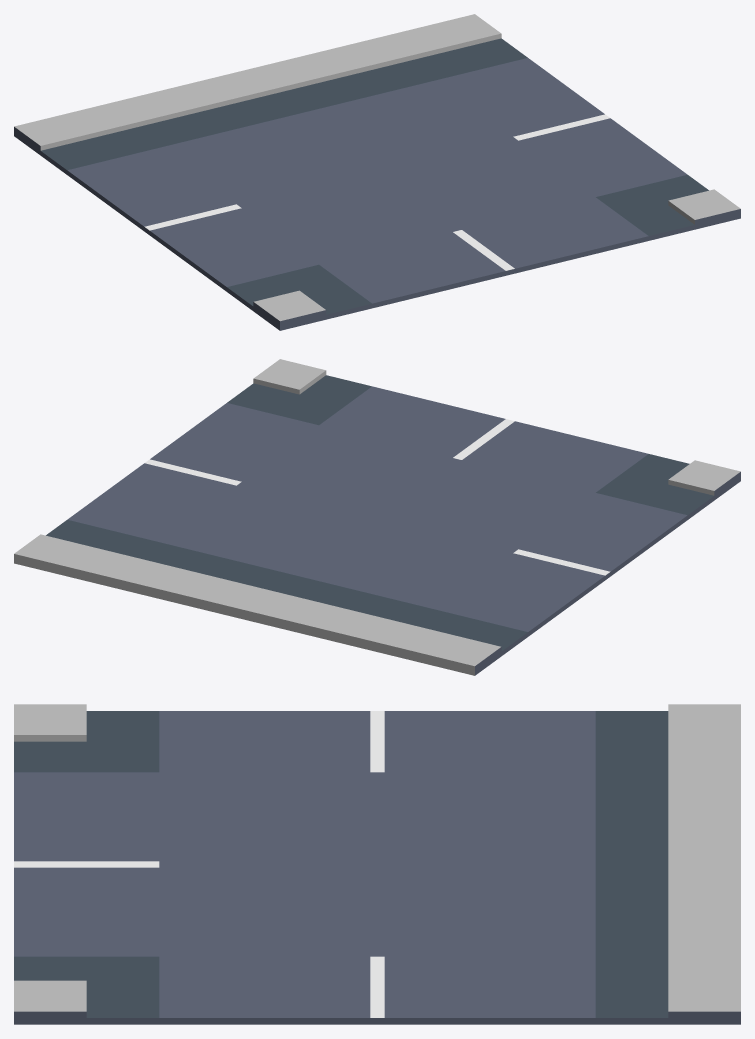
File: SM_Road_Intersection.fbx
3 renders of one model, top to bottom at view 1: azimuth 30°, elevation 25°; view 2: azimuth 150°, elevation 25°; view 3: azimuth 270°, elevation 25°, orthographic. The views are drawn at different scales.
Visible parts, largest first — view 1: SM_Road_Intersection; view 2: SM_Road_Intersection; view 3: SM_Road_Intersection.
Boxes of the visible parts, x1=… form: SM_Road_Intersection: x1=14, y1=14, x2=740, y2=330; SM_Road_Intersection: x1=14, y1=359, x2=740, y2=675; SM_Road_Intersection: x1=14, y1=704, x2=740, y2=1024.
Size of the model in its own units: 1000 by 20 by 1000.
